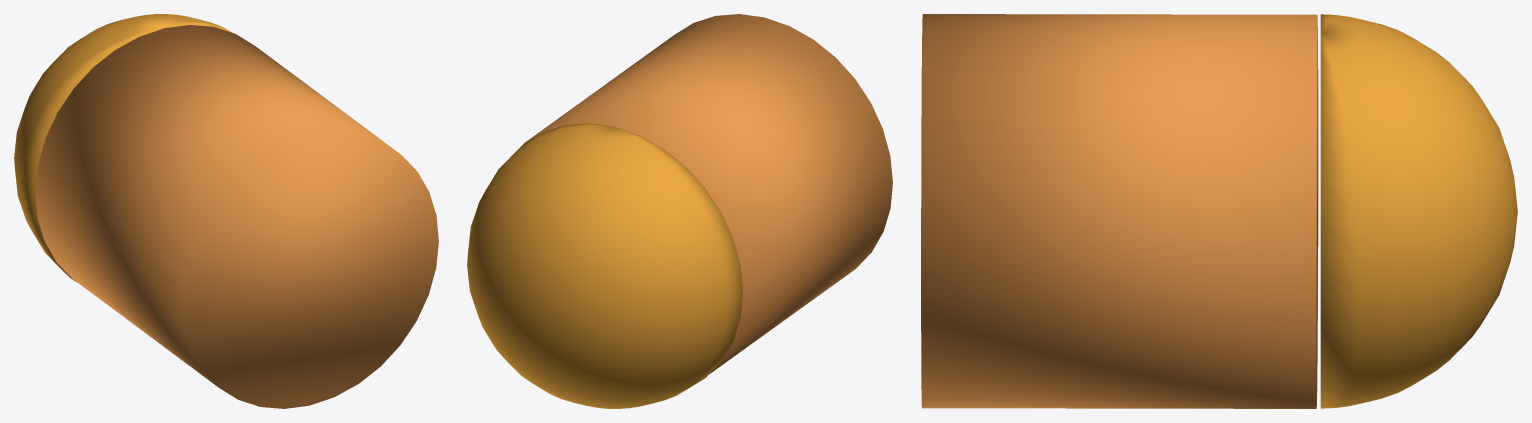
File: missile.gltf
3 renders of one model, left to right at view 1: azimuth 30°, elevation 25°; view 2: azimuth 150°, elevation 25°; view 3: azimuth 270°, elevation 25°, orthographic. The views are drawn at different scales.
Visible parts, largest first — view 1: Cylinder, Sphere; view 2: Sphere, Cylinder; view 3: Cylinder, Sphere.
Boxes of the visible parts, <box> form: Cylinder: <box>35,25,438,408</box>; Sphere: <box>14,14,232,281</box>; Sphere: <box>467,123,742,408</box>; Cylinder: <box>518,14,892,374</box>; Cylinder: <box>921,14,1318,408</box>; Sphere: <box>1320,14,1517,408</box>.
Bounding box in the file's own units: 2.01 × 2 × 3.02.
